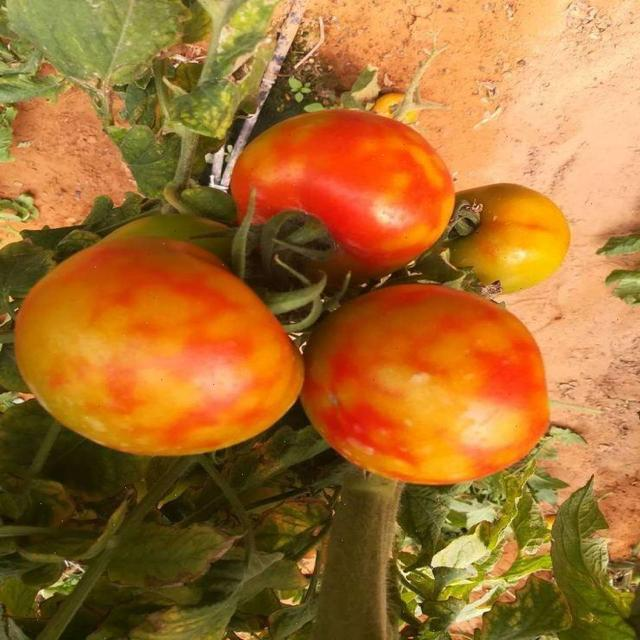Spotted wilt Virus Fruit: (144, 161, 369, 315)
